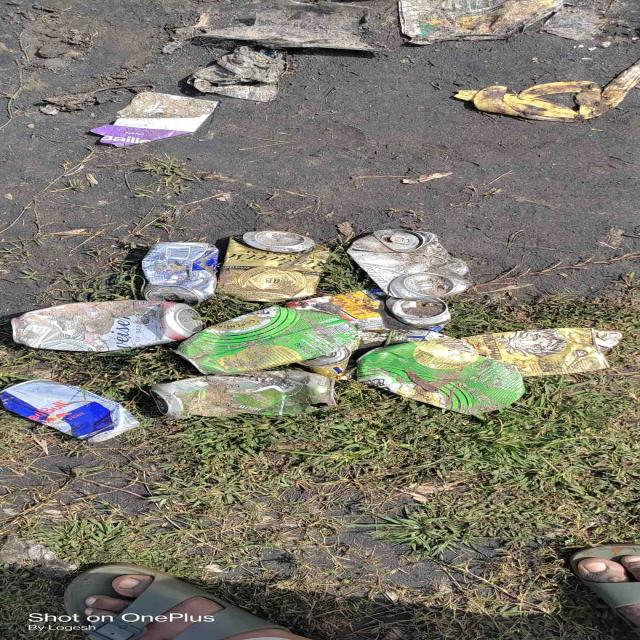kim_loai: (346, 230, 471, 327), (11, 301, 201, 352), (150, 371, 335, 419), (0, 381, 137, 442), (216, 230, 327, 302), (140, 242, 217, 305), (296, 347, 351, 380)
